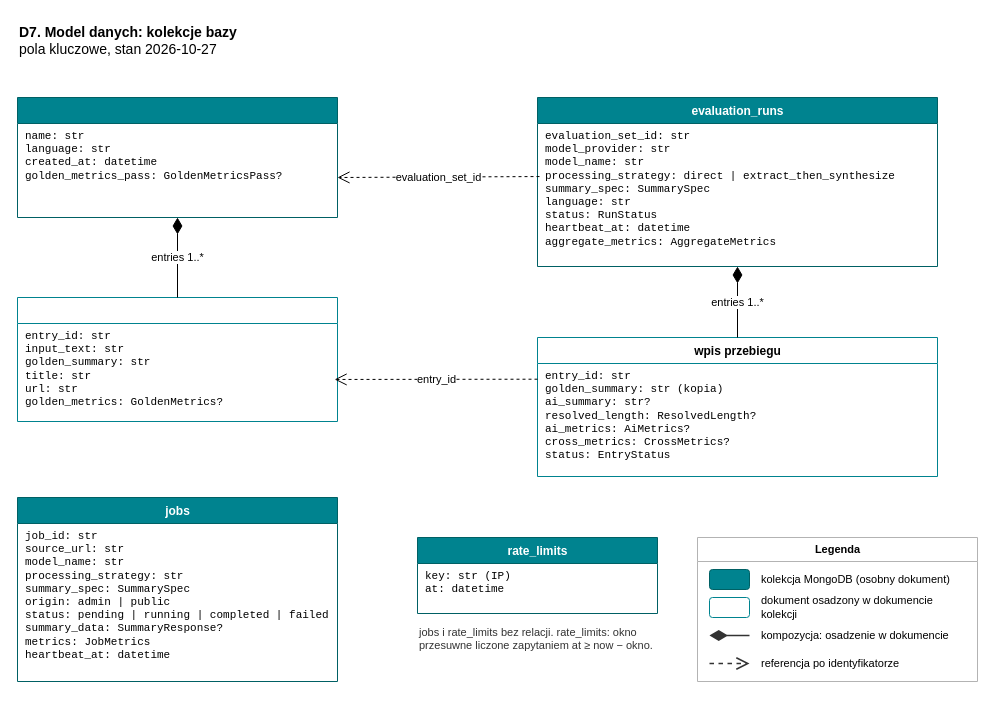
The diagram is 995 pixels wide and 701 high, and some of its shapes have lost their labels. Here are the shapes that lost their labels. From the top down, the box of each, then its label:
(16, 96, 338, 218): evaluation_sets
(16, 296, 338, 422): wpis zbioru
